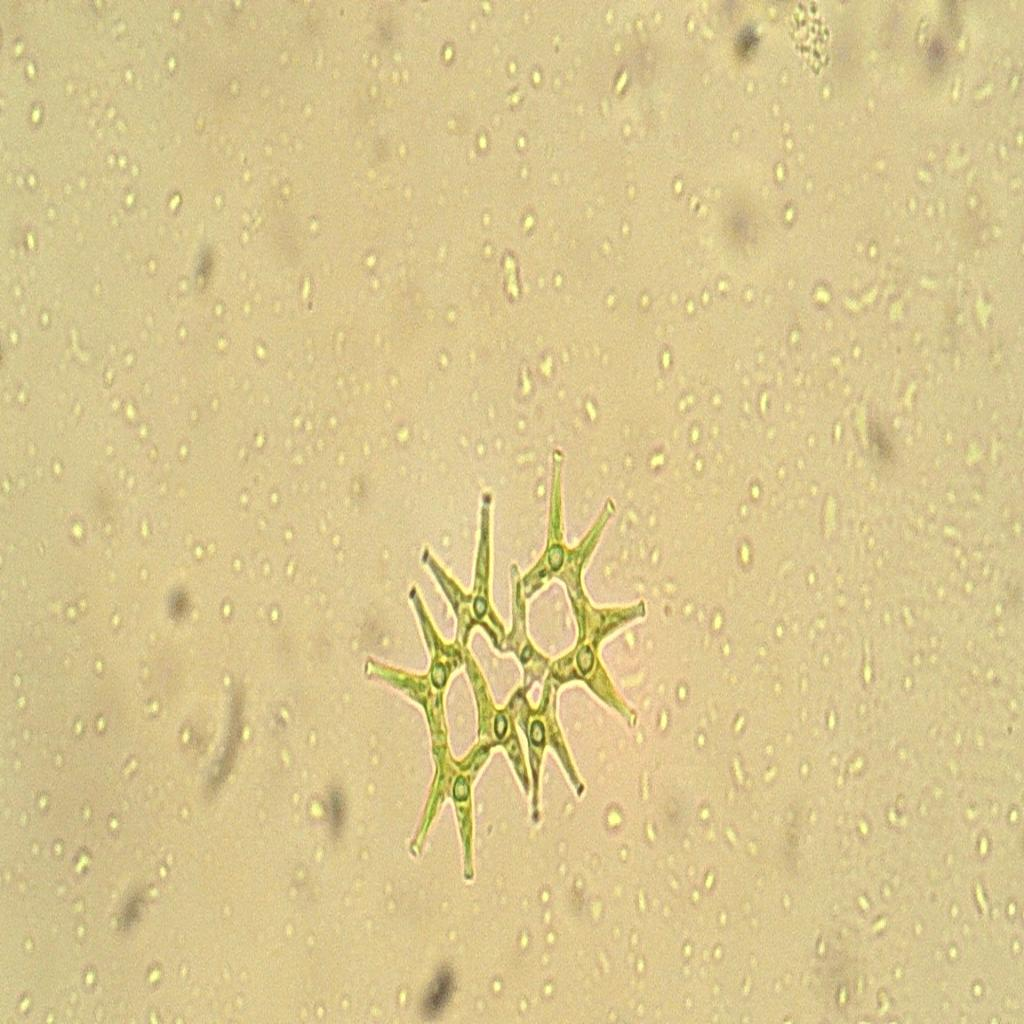Pediastrum_1TH: (356, 414, 666, 904)
